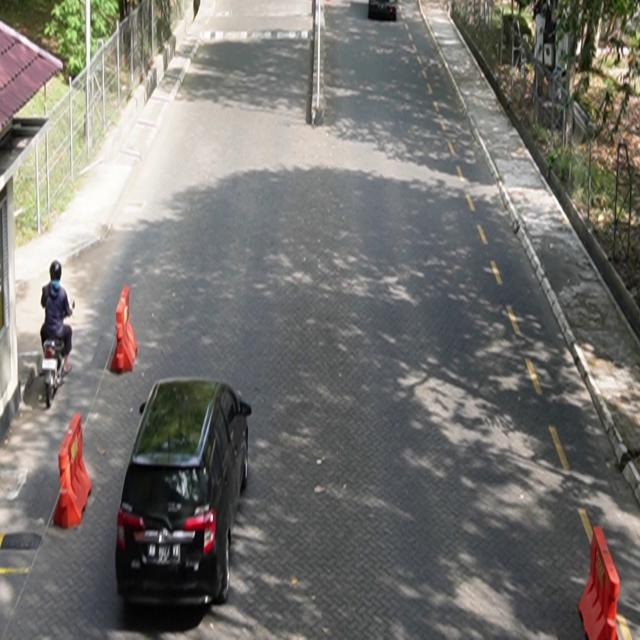car: (116, 377, 253, 611)
